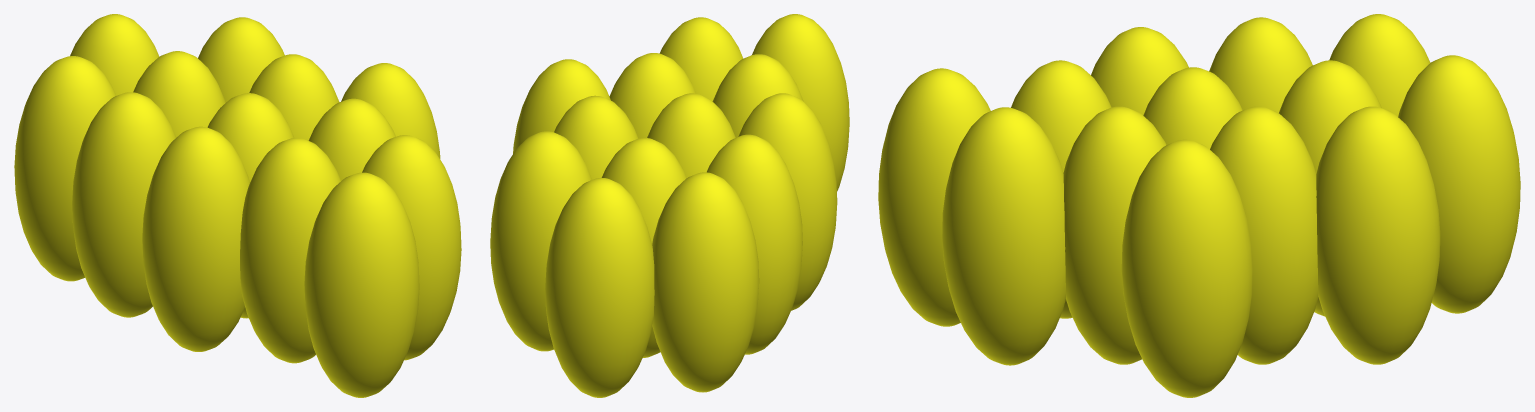
Rendered from Eggs.FBX.
3 views of the same model, side by side, from view 1: azimuth 30°, elevation 25°; view 2: azimuth 150°, elevation 25°; view 3: azimuth 270°, elevation 25° (orthographic). The views are drawn at different scales.
Visible parts, largest first — view 1: eggs012, eggs003, eggs009, eggs005, eggs013, eggs007, eggs006, eggs002, eggs011, eggs008, eggs010, eggs001 (+1 smaller); view 2: eggs010, eggs013, eggs011, eggs009, eggs003, eggs012, eggs006, eggs004, eggs001, eggs008, eggs007, eggs002 (+1 smaller); view 3: eggs008, eggs011, eggs007, eggs010, eggs002, eggs012, eggs001, eggs009, eggs013, eggs005, eggs006, eggs004 (+1 smaller).
Boxes of the visible parts, x1=… form: eggs012: x1=304, y1=172, x2=419, y2=397; eggs003: x1=142, y1=126, x2=249, y2=351; eggs009: x1=72, y1=92, x2=176, y2=317; eggs005: x1=240, y1=138, x2=340, y2=363; eggs013: x1=14, y1=56, x2=116, y2=281; eggs007: x1=362, y1=135, x2=461, y2=360; eggs006: x1=133, y1=51, x2=225, y2=137; eggs002: x1=249, y1=54, x2=339, y2=140; eggs011: x1=198, y1=17, x2=284, y2=102; eggs008: x1=341, y1=63, x2=440, y2=158; eggs010: x1=70, y1=14, x2=159, y2=95; eggs001: x1=308, y1=98, x2=395, y2=180; eggs010: x1=545, y1=178, x2=654, y2=397; eggs013: x1=652, y1=172, x2=759, y2=392; eggs011: x1=490, y1=131, x2=591, y2=351; eggs009: x1=707, y1=134, x2=802, y2=354; eggs003: x1=738, y1=93, x2=837, y2=310; eggs012: x1=752, y1=14, x2=849, y2=191; eggs006: x1=601, y1=138, x2=686, y2=357; eggs004: x1=647, y1=93, x2=735, y2=177; eggs001: x1=609, y1=53, x2=695, y2=138; eggs008: x1=513, y1=59, x2=610, y2=153; eggs007: x1=659, y1=17, x2=743, y2=101; eggs002: x1=554, y1=95, x2=638, y2=179; eggs008: x1=1121, y1=139, x2=1252, y2=397; eggs011: x1=1316, y1=106, x2=1440, y2=364; eggs007: x1=942, y1=107, x2=1065, y2=365; eggs010: x1=1398, y1=55, x2=1520, y2=313; eggs002: x1=1210, y1=106, x2=1318, y2=364; eggs012: x1=878, y1=68, x2=990, y2=326; eggs001: x1=1063, y1=106, x2=1166, y2=364; eggs009: x1=1209, y1=17, x2=1312, y2=112; eggs013: x1=1329, y1=14, x2=1430, y2=116; eggs005: x1=1011, y1=60, x2=1111, y2=318; eggs006: x1=1279, y1=60, x2=1381, y2=316; eggs004: x1=1143, y1=67, x2=1242, y2=149.
Bounding box in the file's own units: 35.24 × 22.93 × 52.77.
